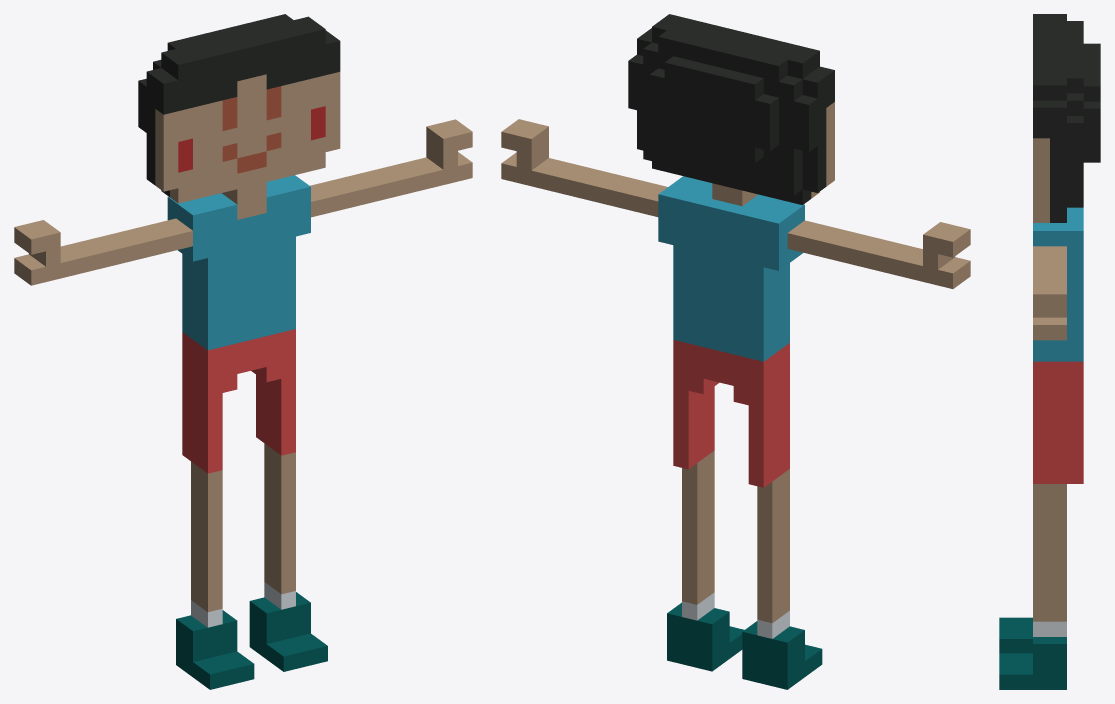
Rendered from classmate1_nm.fbx.
3 views of the same model, side by side, from view 1: azimuth 30°, elevation 25°; view 2: azimuth 150°, elevation 25°; view 3: azimuth 270°, elevation 25° (orthographic). The views are drawn at different scales.
Parts seen in each view (by area): view 1: 多边形; view 2: 多边形; view 3: 多边形.
Boxes of the visible parts, x1,y1,x2,y2 form: 多边形: (14, 14, 472, 689); 多边形: (501, 14, 970, 689); 多边形: (999, 14, 1100, 689).
Bounding box in the file's own units: 3 × 4 × 0.6.
1 material, 1 textured.
